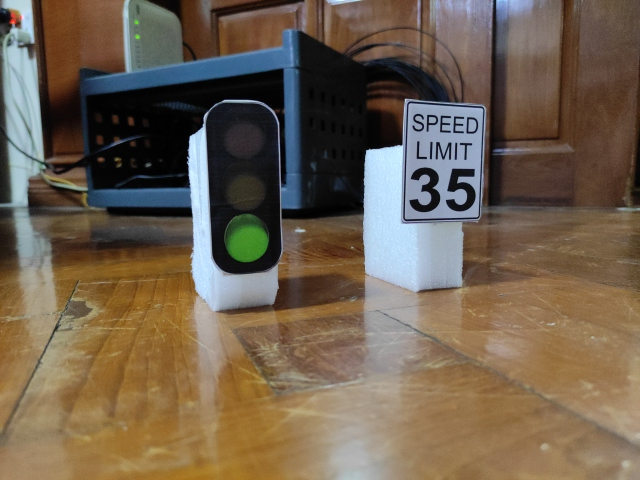Green Traffic Light: (205, 100, 283, 275)
Speed Limit 35: (401, 99, 486, 223)
